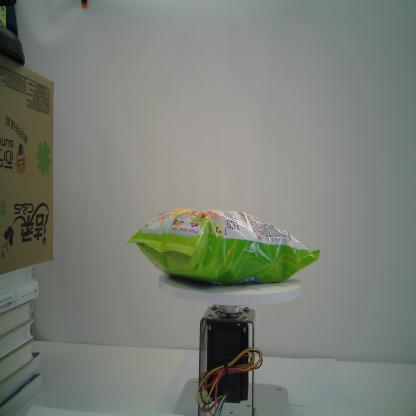Puffed Food: (126, 205, 323, 289)
